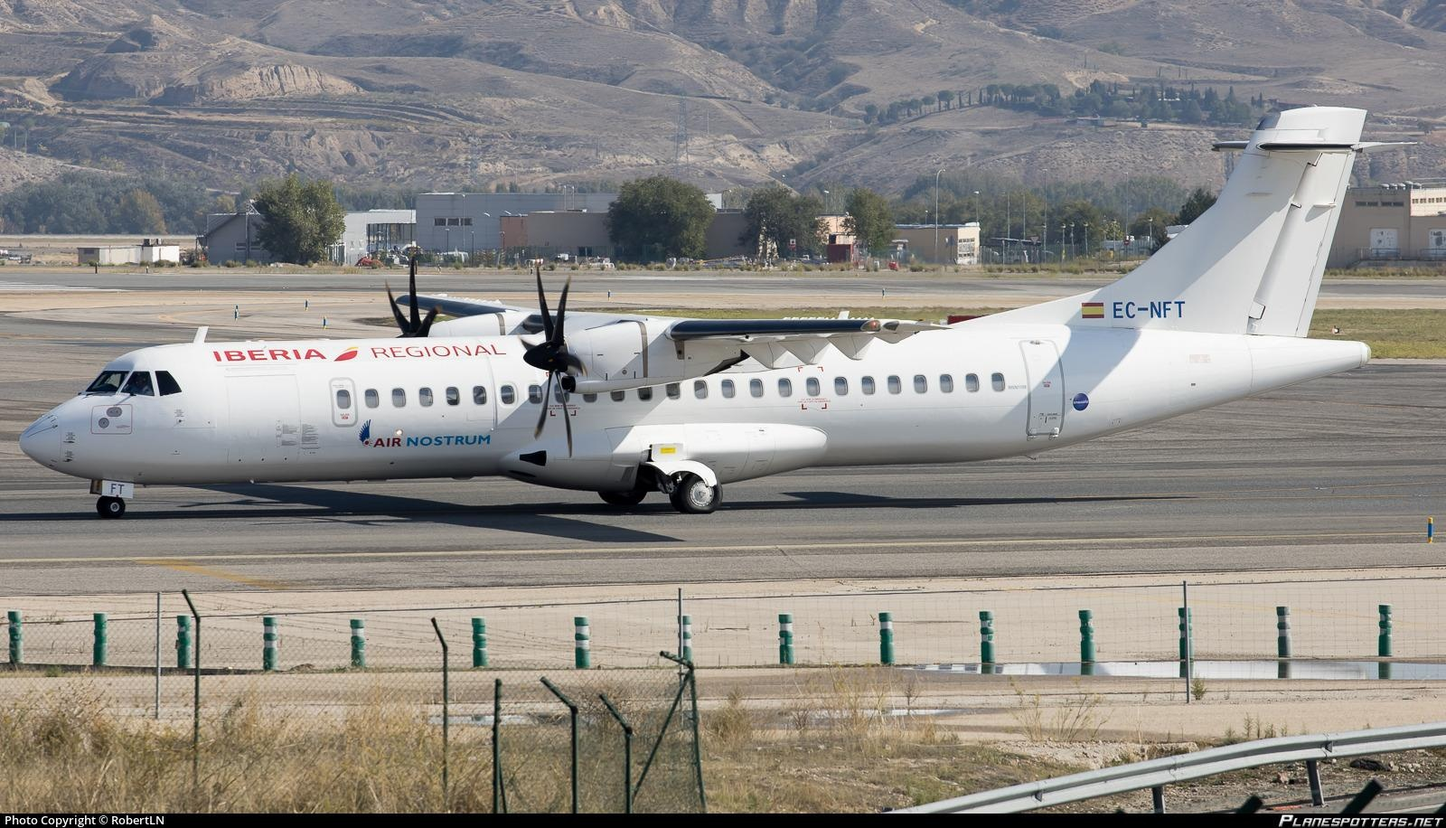aircraft: (12, 112, 1399, 514)
